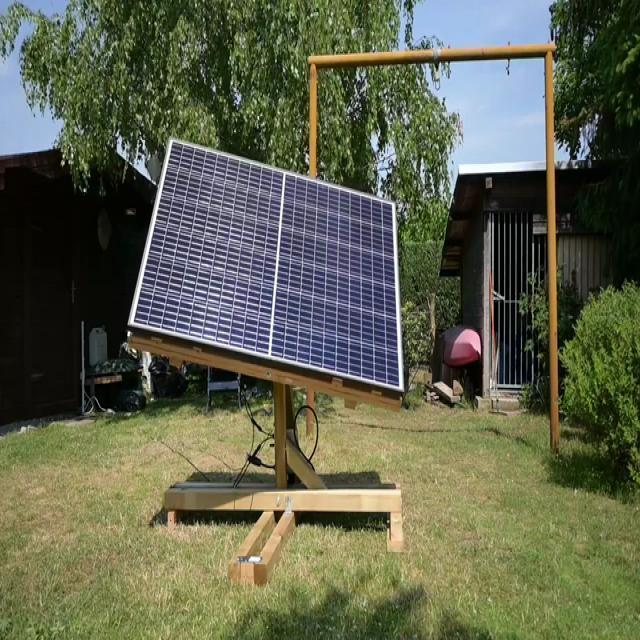Normal Solar Panel: (130, 140, 404, 390)
